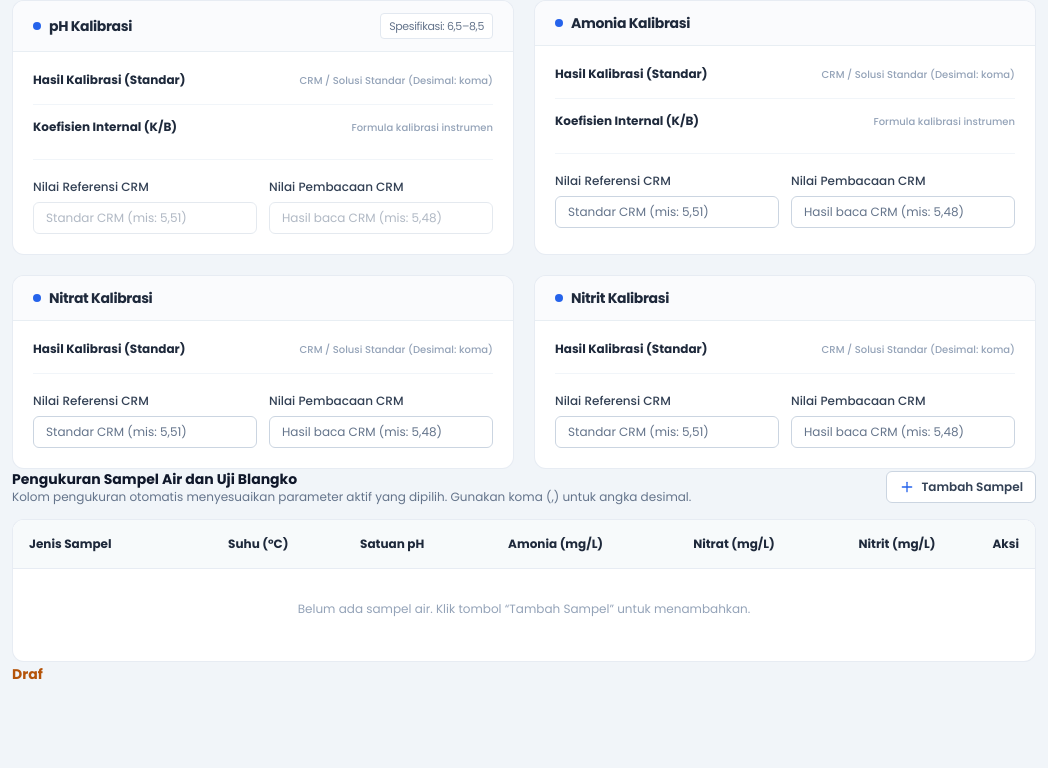
Test: salinan komponen kalibrasi › menampilkan label formulir dan status dalam bahasa Indonesia
expect the text "Hasil Kalibrasi (Standar)" below "Spesifikasi:" is shown: met, box [33, 71, 185, 88]
expect the text "Koefisien Internal (K/B)" below "Spesifikasi:" is shown: met, box [33, 119, 177, 135]
Click the button "Tambah Sampel". click: click(961, 487)
box: [886, 471, 1036, 503]
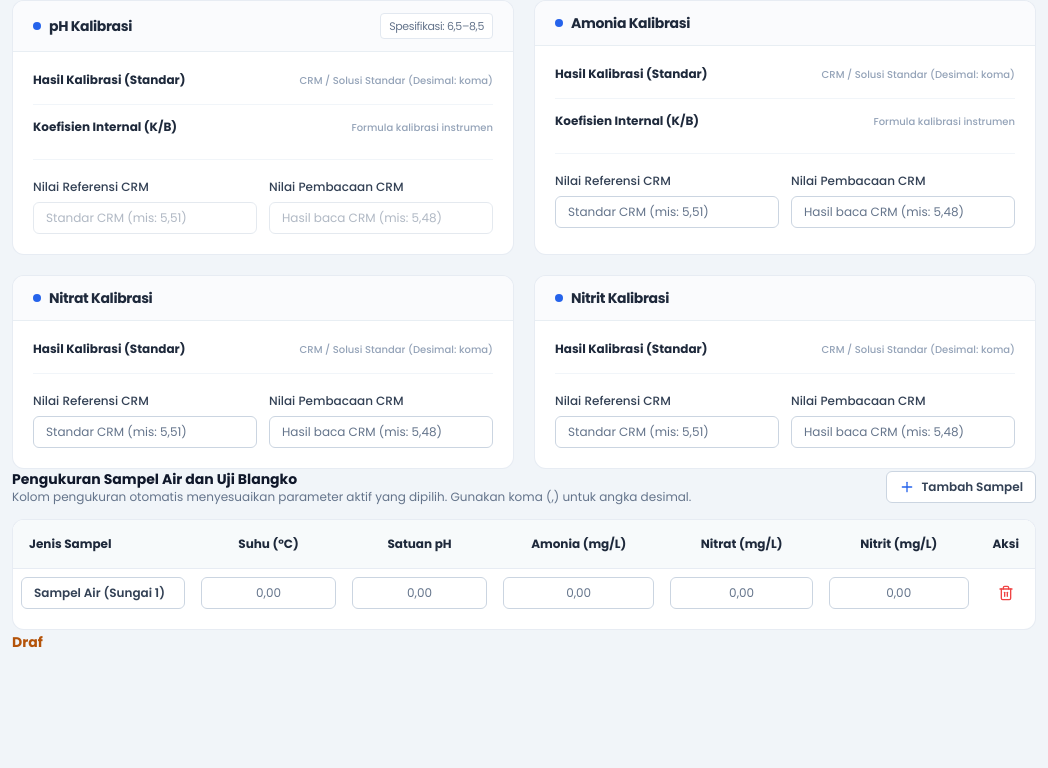
expect the field showing "Sampel Air (Sungai 1)" is shown: met, box [21, 576, 185, 608]
